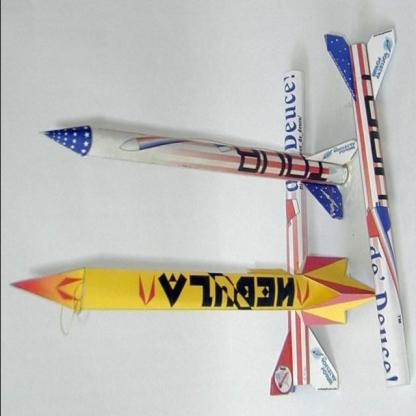MIL_TBM: (42, 118, 356, 188), (2, 262, 350, 314)
